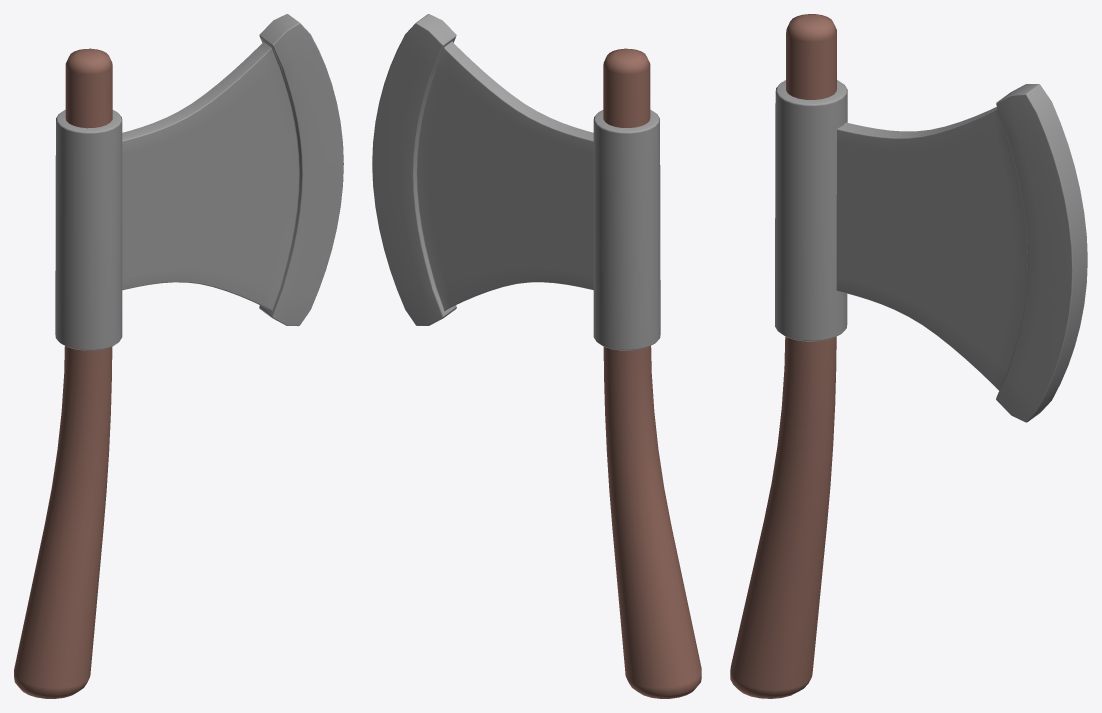
Rendered from Farm_17_Axe_1.glb.
The picture shows the model from 3 angles, left to right: view 1: azimuth 30°, elevation 25°; view 2: azimuth 150°, elevation 25°; view 3: azimuth 330°, elevation 25°; orthographic projection. The views are drawn at different scales.
Parts seen in each view (by area): view 1: Farm_17_Axe_1; view 2: Farm_17_Axe_1; view 3: Farm_17_Axe_1.
Part boxes in pixels (x1=…): Farm_17_Axe_1: x1=14, y1=14, x2=343, y2=698; Farm_17_Axe_1: x1=372, y1=14, x2=701, y2=698; Farm_17_Axe_1: x1=730, y1=14, x2=1087, y2=698.
Size of the model in its own units: 0.5451 by 1.02 by 0.1151.
Materials: 1 (1 with a texture image).
